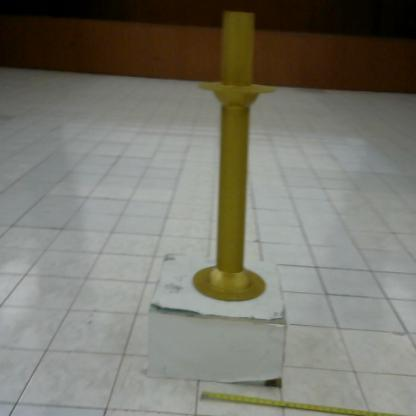pole: (187, 6, 282, 313)
